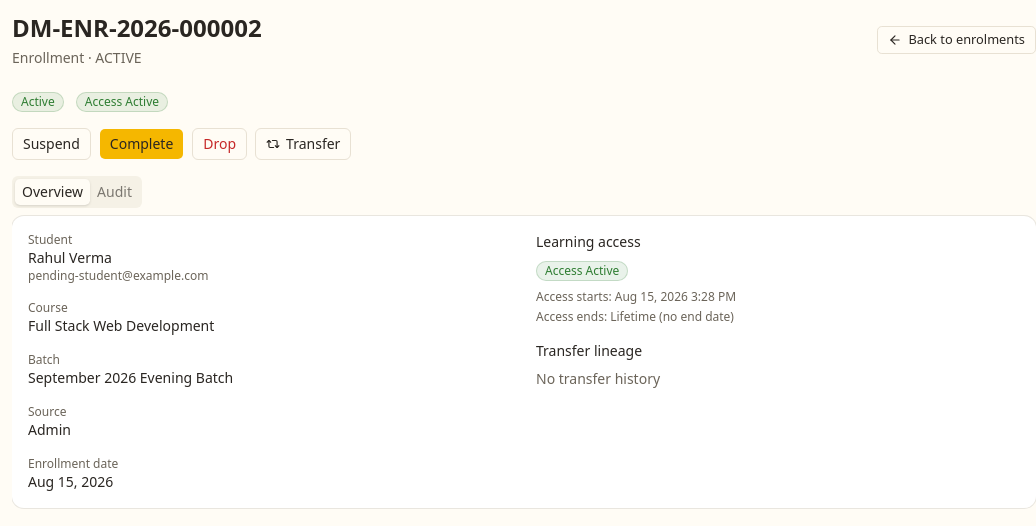
Test: EnrollmentDetailPage › suspends and resumes an ACTIVE enrollment
Expected: the heading "DM-ENR-2026-000002" is shown, [12,12,262,44]
Expected: the icon "Active" is shown, [12,92,64,112]
Click the button "Suspend". click: (51, 144)
box: [12,128,91,160]
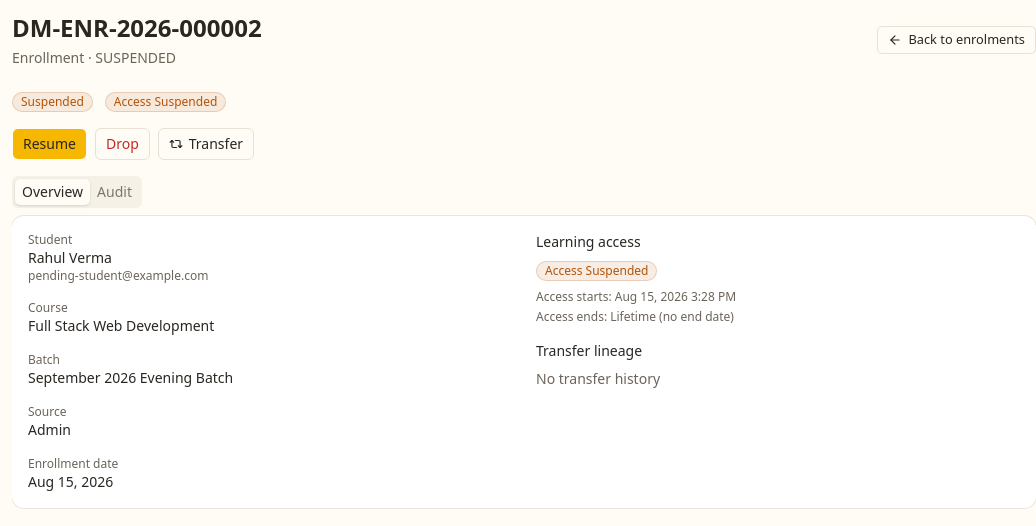
Expected: the text "Suspended" is shown, [12,92,93,112]
Expected: the 1st text "Access Suspended" is shown, [105,92,226,112]
Click the button "Resume". click: (50, 144)
box: [12,128,87,160]
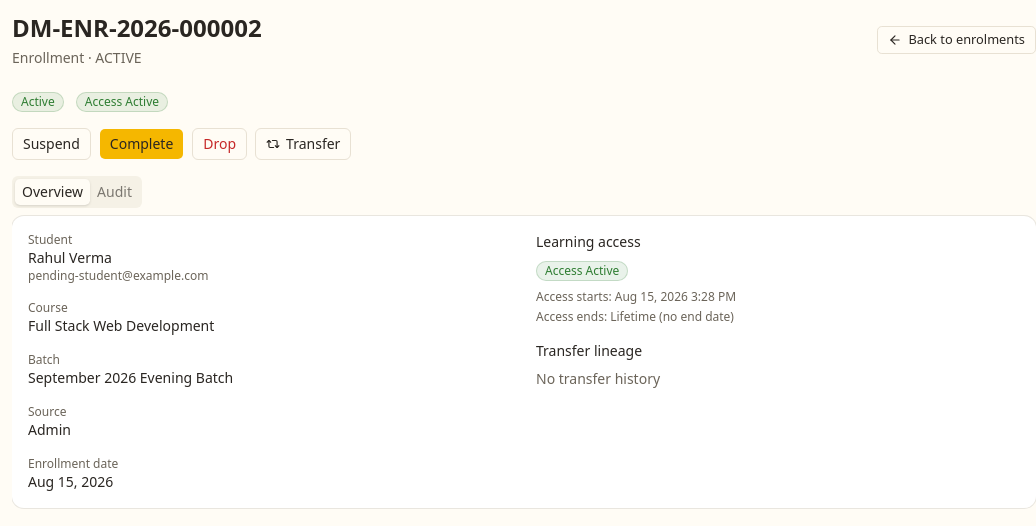
Expected: the icon "Active" is shown, [12,92,64,112]
